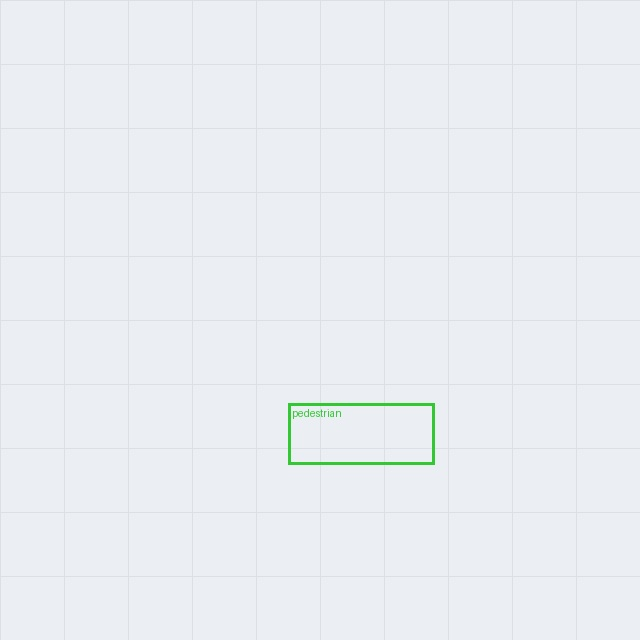pedestrian: (288, 403, 434, 464)
